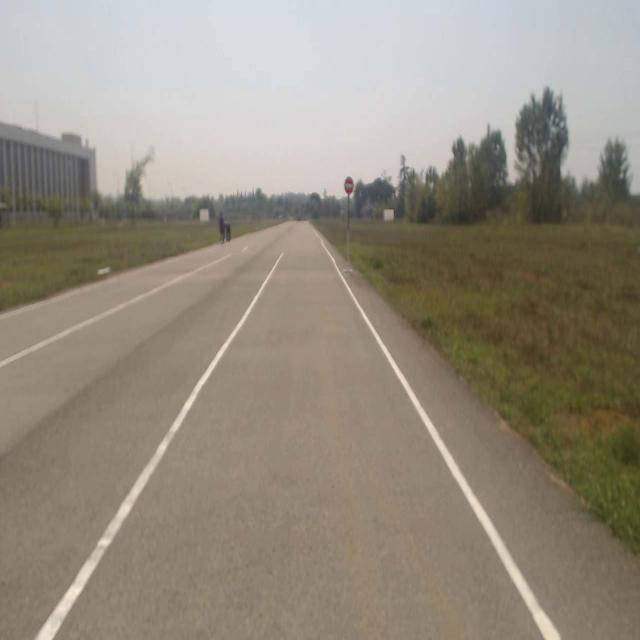girisyok: (345, 178, 354, 194)
